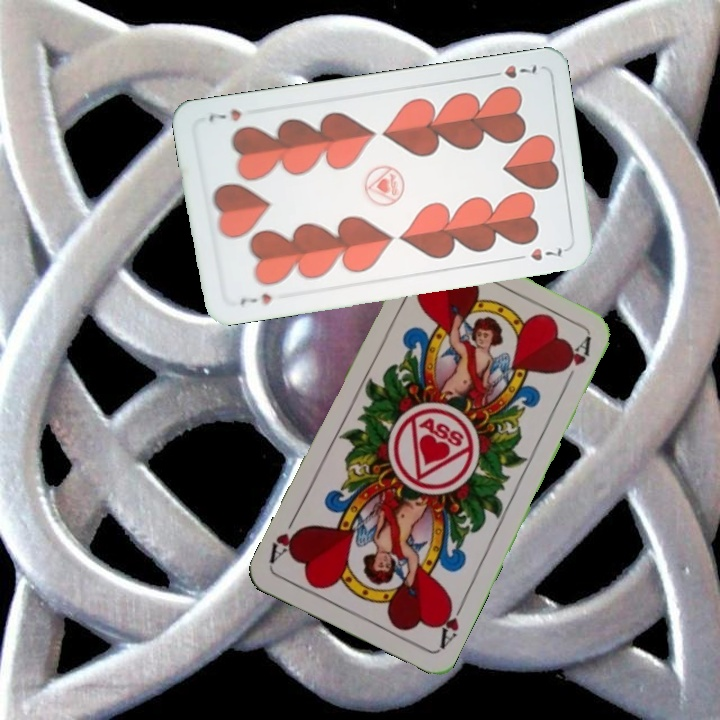H7: (483, 61, 539, 81), (236, 289, 274, 308)
HA: (433, 593, 468, 651)
